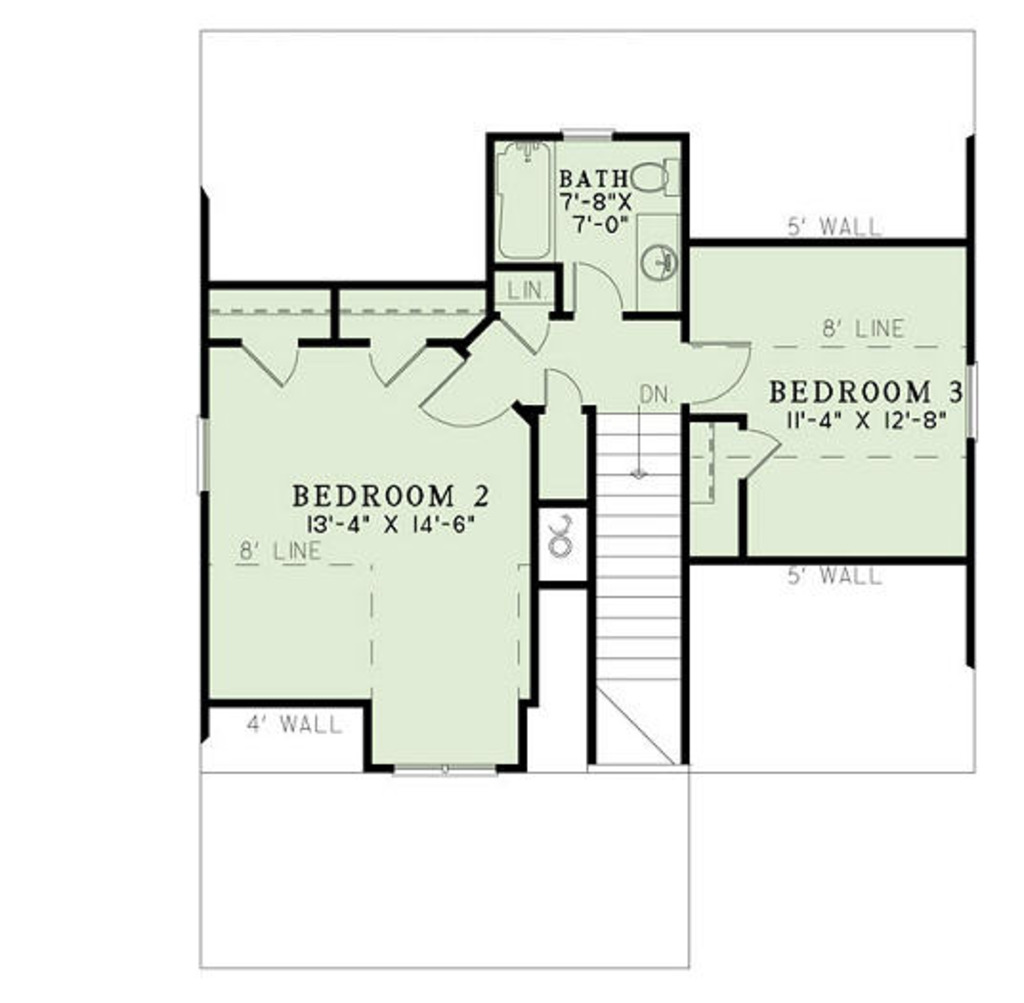door: (417, 352, 526, 428), (685, 334, 751, 408), (564, 260, 634, 325), (237, 335, 307, 393), (369, 325, 428, 391), (497, 313, 554, 361), (540, 367, 591, 413), (745, 423, 782, 478)
large_sink: (623, 147, 682, 211)
small_sink: (625, 210, 687, 314)
stairs: (590, 407, 687, 767)
tub: (501, 137, 567, 254)
window: (391, 758, 502, 775), (557, 119, 620, 144), (966, 361, 979, 441), (196, 417, 210, 490)
